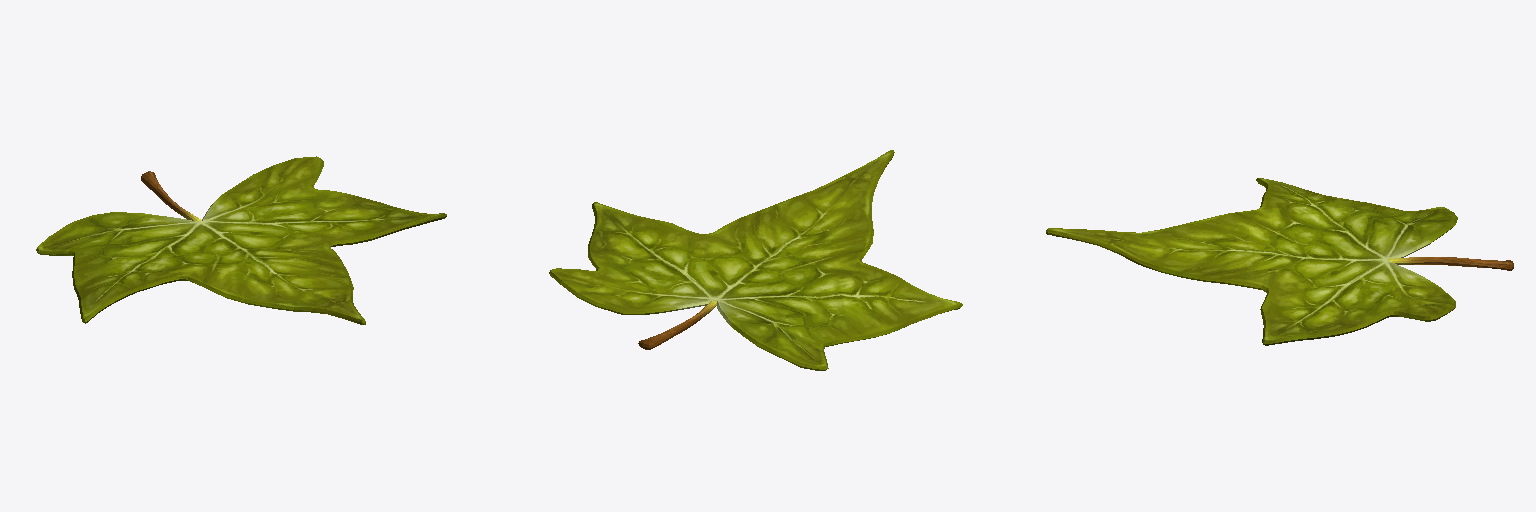
3 views of the same model, side by side, from view 1: azimuth 30°, elevation 25°; view 2: azimuth 150°, elevation 25°; view 3: azimuth 270°, elevation 25° (orthographic).
Bounding box in the file's own units: 0.0983 × 0.0118 × 0.1086.
Materials: 1 (1 with a texture image).